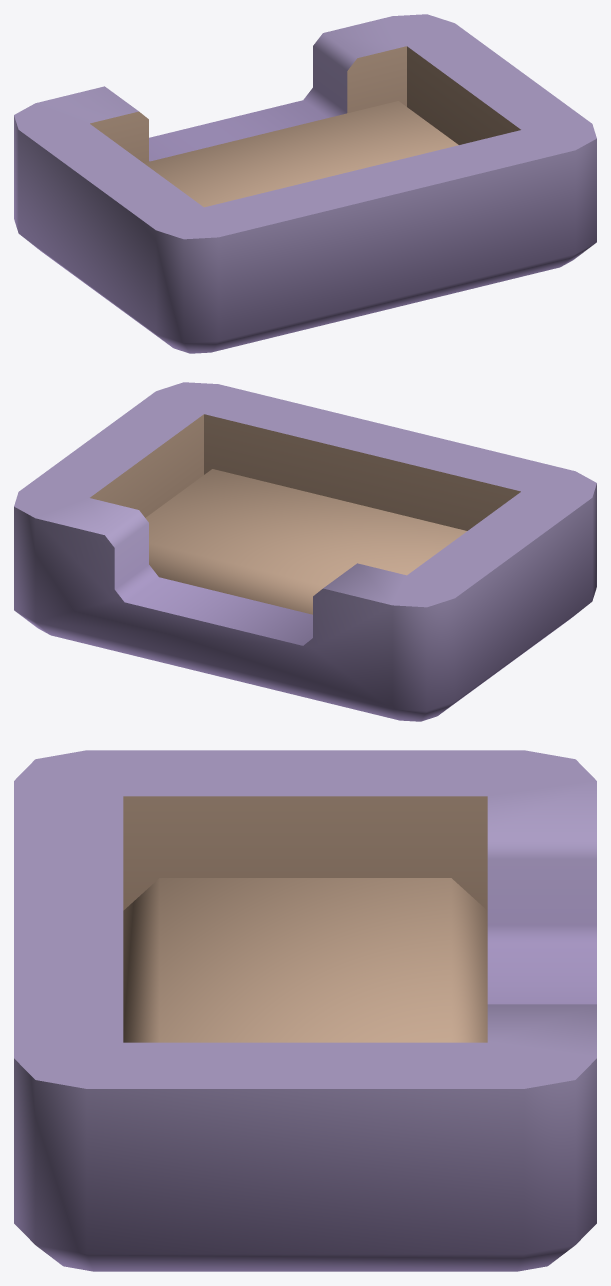
The model's file is pet-bed.glb.
3 views of the same model, one above another, from view 1: azimuth 30°, elevation 25°; view 2: azimuth 150°, elevation 25°; view 3: azimuth 270°, elevation 25° (orthographic). The views are drawn at different scales.
Visible parts, largest first — view 1: pet-bed; view 2: pet-bed; view 3: pet-bed.
Boxes of the visible parts, <box> form: pet-bed: <box>14,14,596,353</box>; pet-bed: <box>14,382,596,721</box>; pet-bed: <box>14,750,596,1271</box>.
Size of the model in its own units: 1.1 by 0.3 by 0.8.
